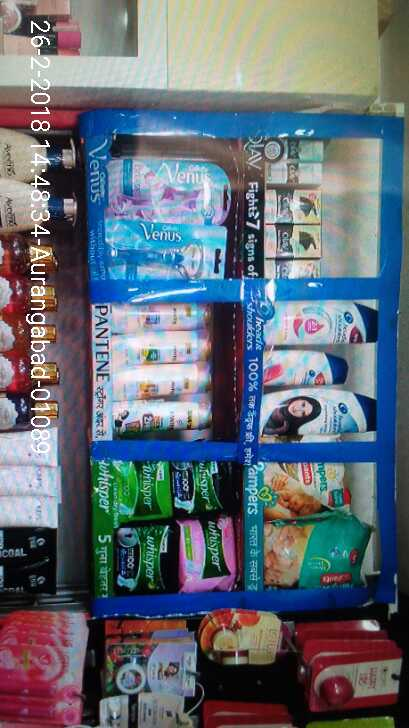venus: (105, 159, 221, 221), (105, 221, 220, 274)
